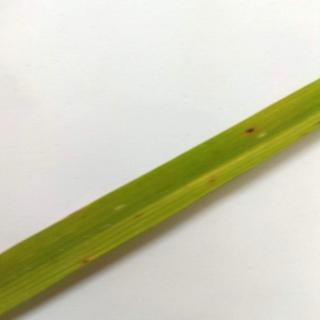bercak-Cokelat: (239, 123, 259, 143)
